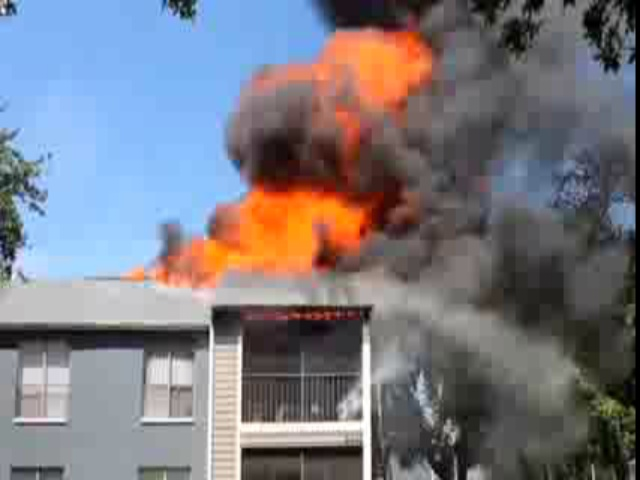fire: (170, 177, 389, 283), (310, 28, 452, 114)
